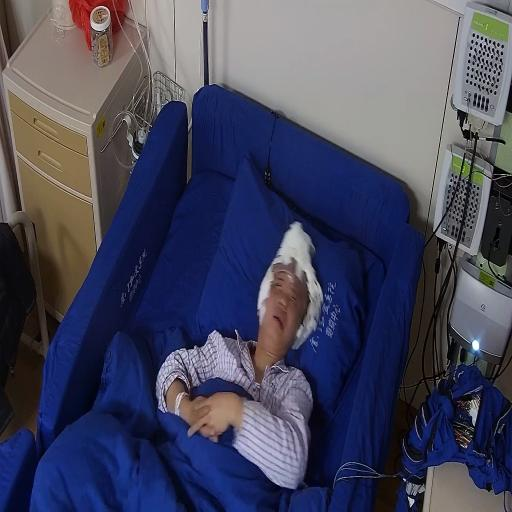Seizure: (258, 257, 315, 357)
